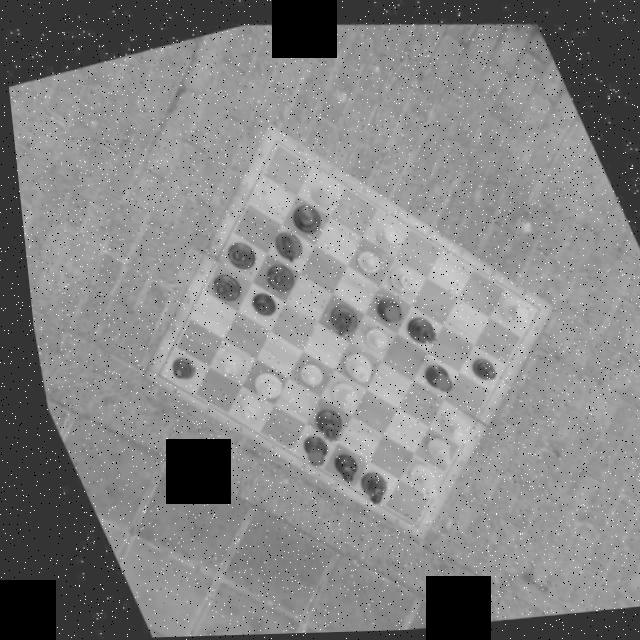chess-table-corners: (382, 500, 422, 538), (257, 122, 296, 160), (514, 284, 548, 320), (138, 356, 170, 392)
